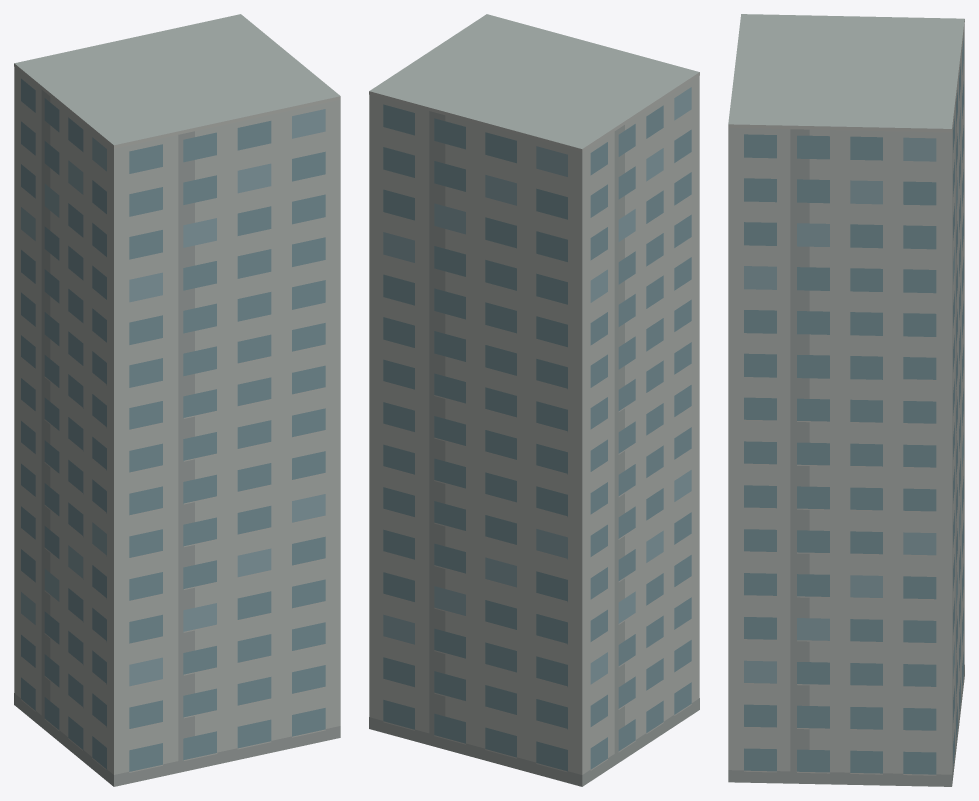
Rendered from residential-304e3272-ddce-44f7-9e8b-d58d1eb169de.glb.
3 views of the same model, side by side, from view 1: azimuth 30°, elevation 25°; view 2: azimuth 150°, elevation 25°; view 3: azimuth 270°, elevation 25° (orthographic). The views are drawn at different scales.
Visible parts, largest first — view 1: residential-304e3272-ddce-44f7-9e8b-d58d1eb169de.tmp; view 2: residential-304e3272-ddce-44f7-9e8b-d58d1eb169de.tmp; view 3: residential-304e3272-ddce-44f7-9e8b-d58d1eb169de.tmp.
Part boxes in pixels (x1,y1,x2,y2): residential-304e3272-ddce-44f7-9e8b-d58d1eb169de.tmp: [14, 14, 340, 786]; residential-304e3272-ddce-44f7-9e8b-d58d1eb169de.tmp: [369, 14, 699, 786]; residential-304e3272-ddce-44f7-9e8b-d58d1eb169de.tmp: [728, 14, 964, 786].
Bounding box in the file's own units: 16.88 × 45 × 14.67.
